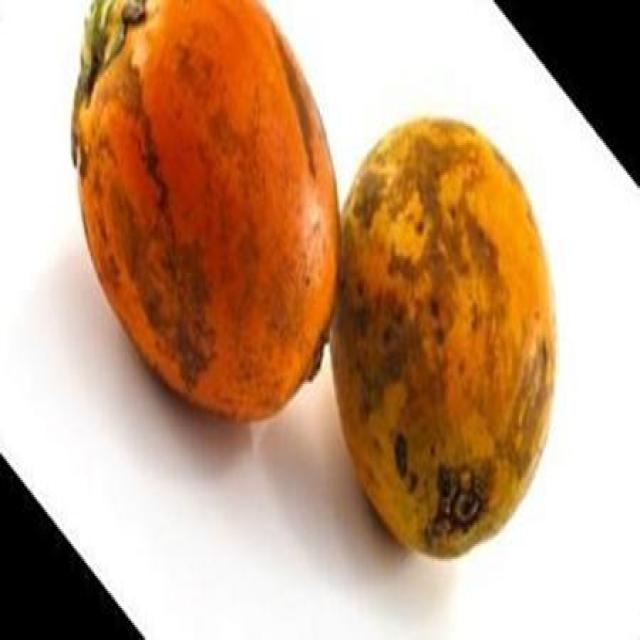good: (71, 0, 340, 427), (327, 117, 558, 563)
